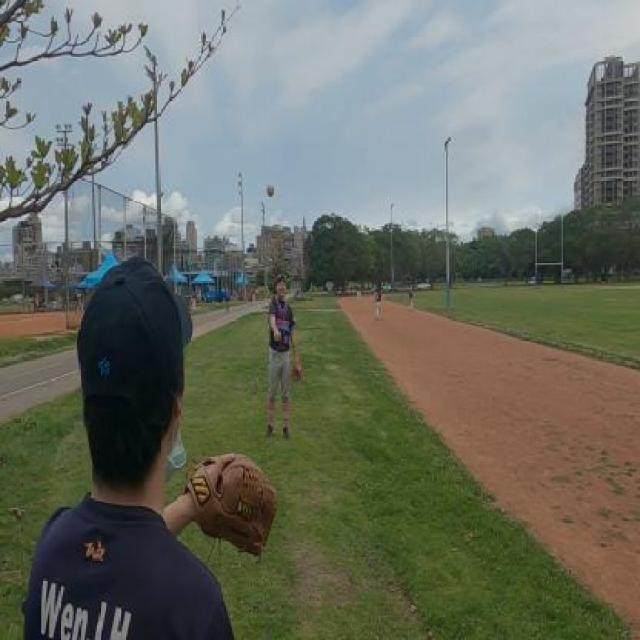baseball: (266, 182, 276, 198)
